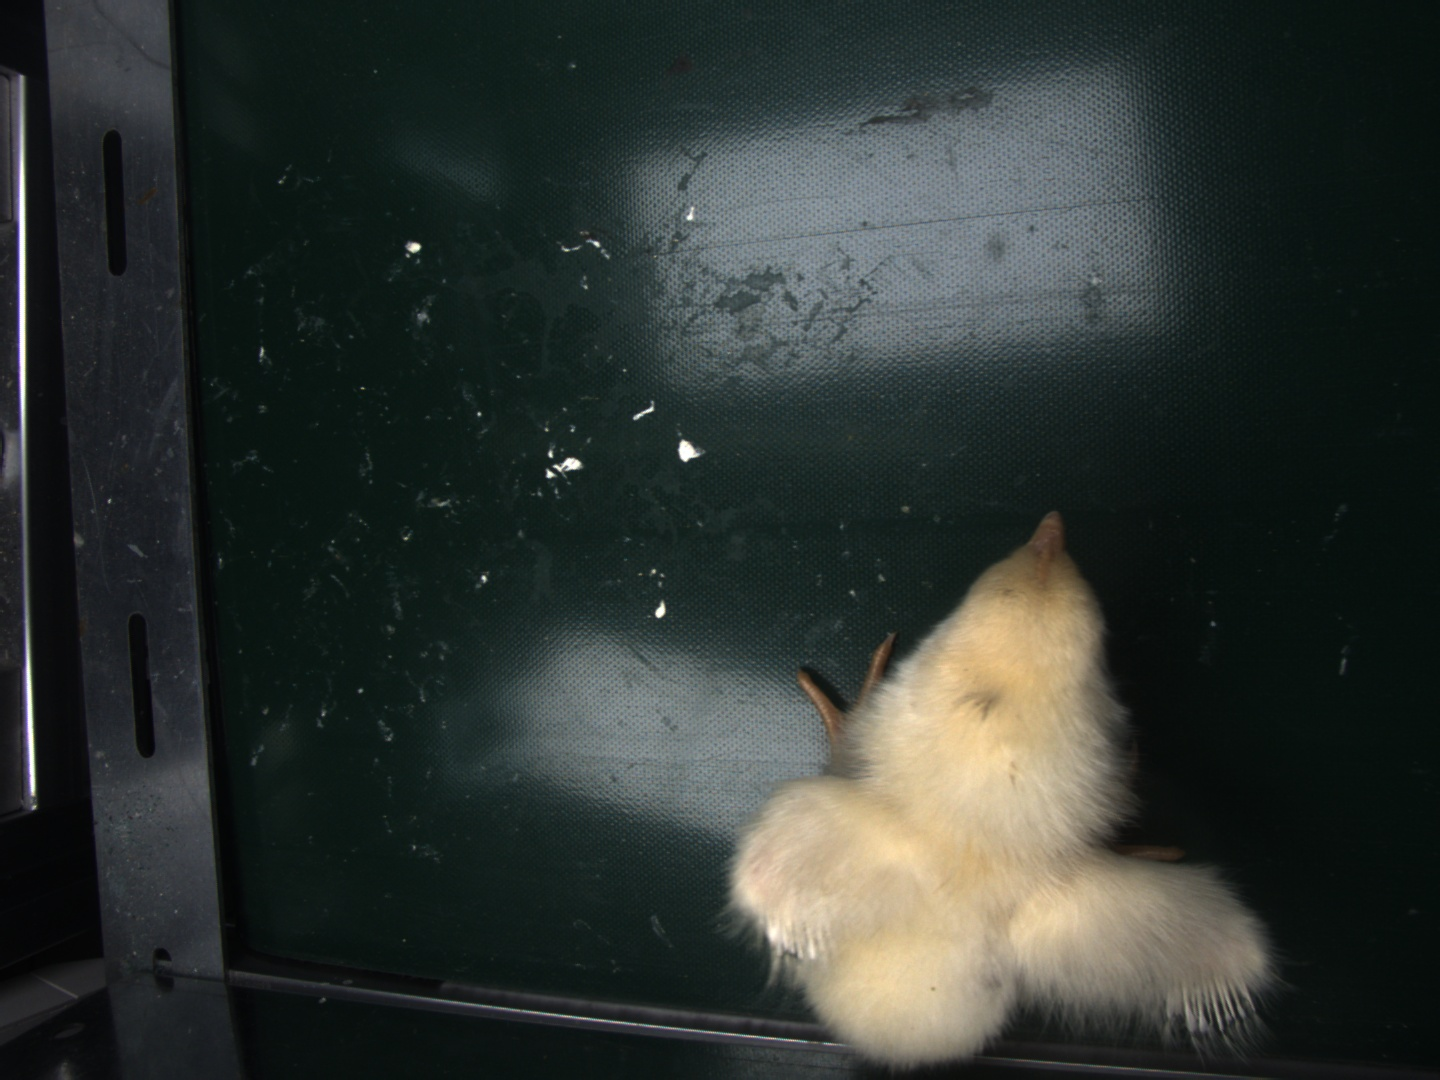male: (1178, 972, 1267, 1041)
